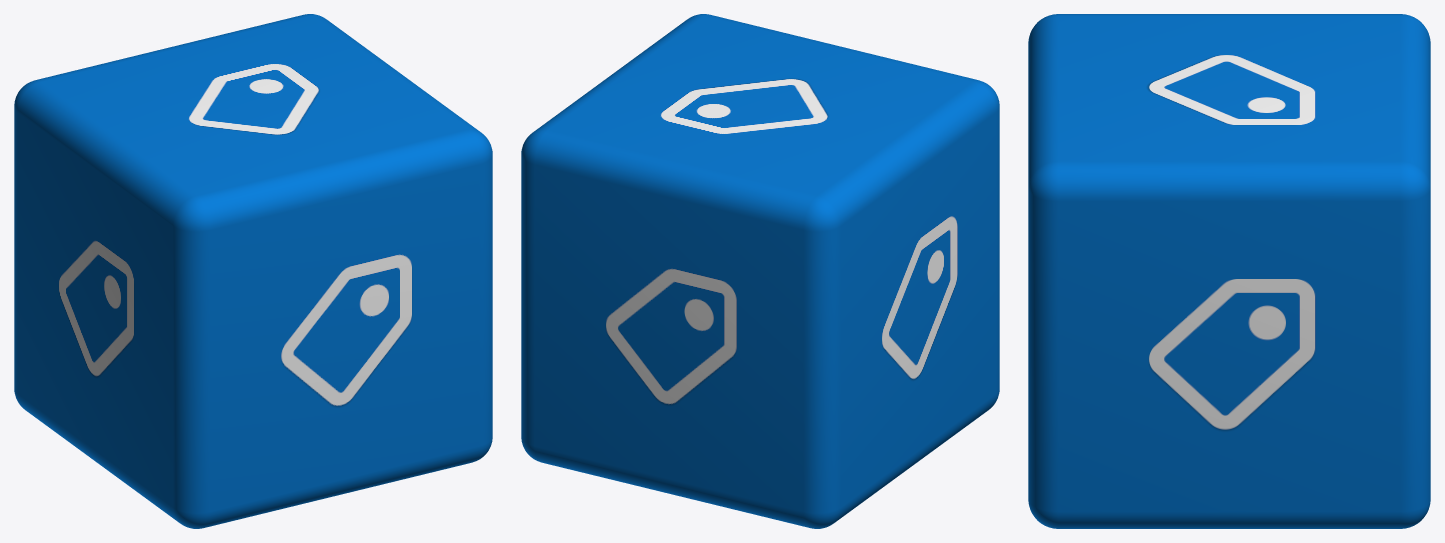
The model's file is marker.glb.
The picture shows the model from 3 angles, left to right: view 1: azimuth 30°, elevation 25°; view 2: azimuth 150°, elevation 25°; view 3: azimuth 270°, elevation 25°; orthographic projection. The views are drawn at different scales.
Parts seen in each view (by area): view 1: Cube; view 2: Cube; view 3: Cube.
Part boxes in pixels (box(x1,y1,x2,y2)): Cube: box(14, 14, 492, 528); Cube: box(521, 14, 999, 528); Cube: box(1028, 14, 1430, 528).
Bounding box in the file's own units: 2 × 2 × 2.
1 material, 1 textured.
